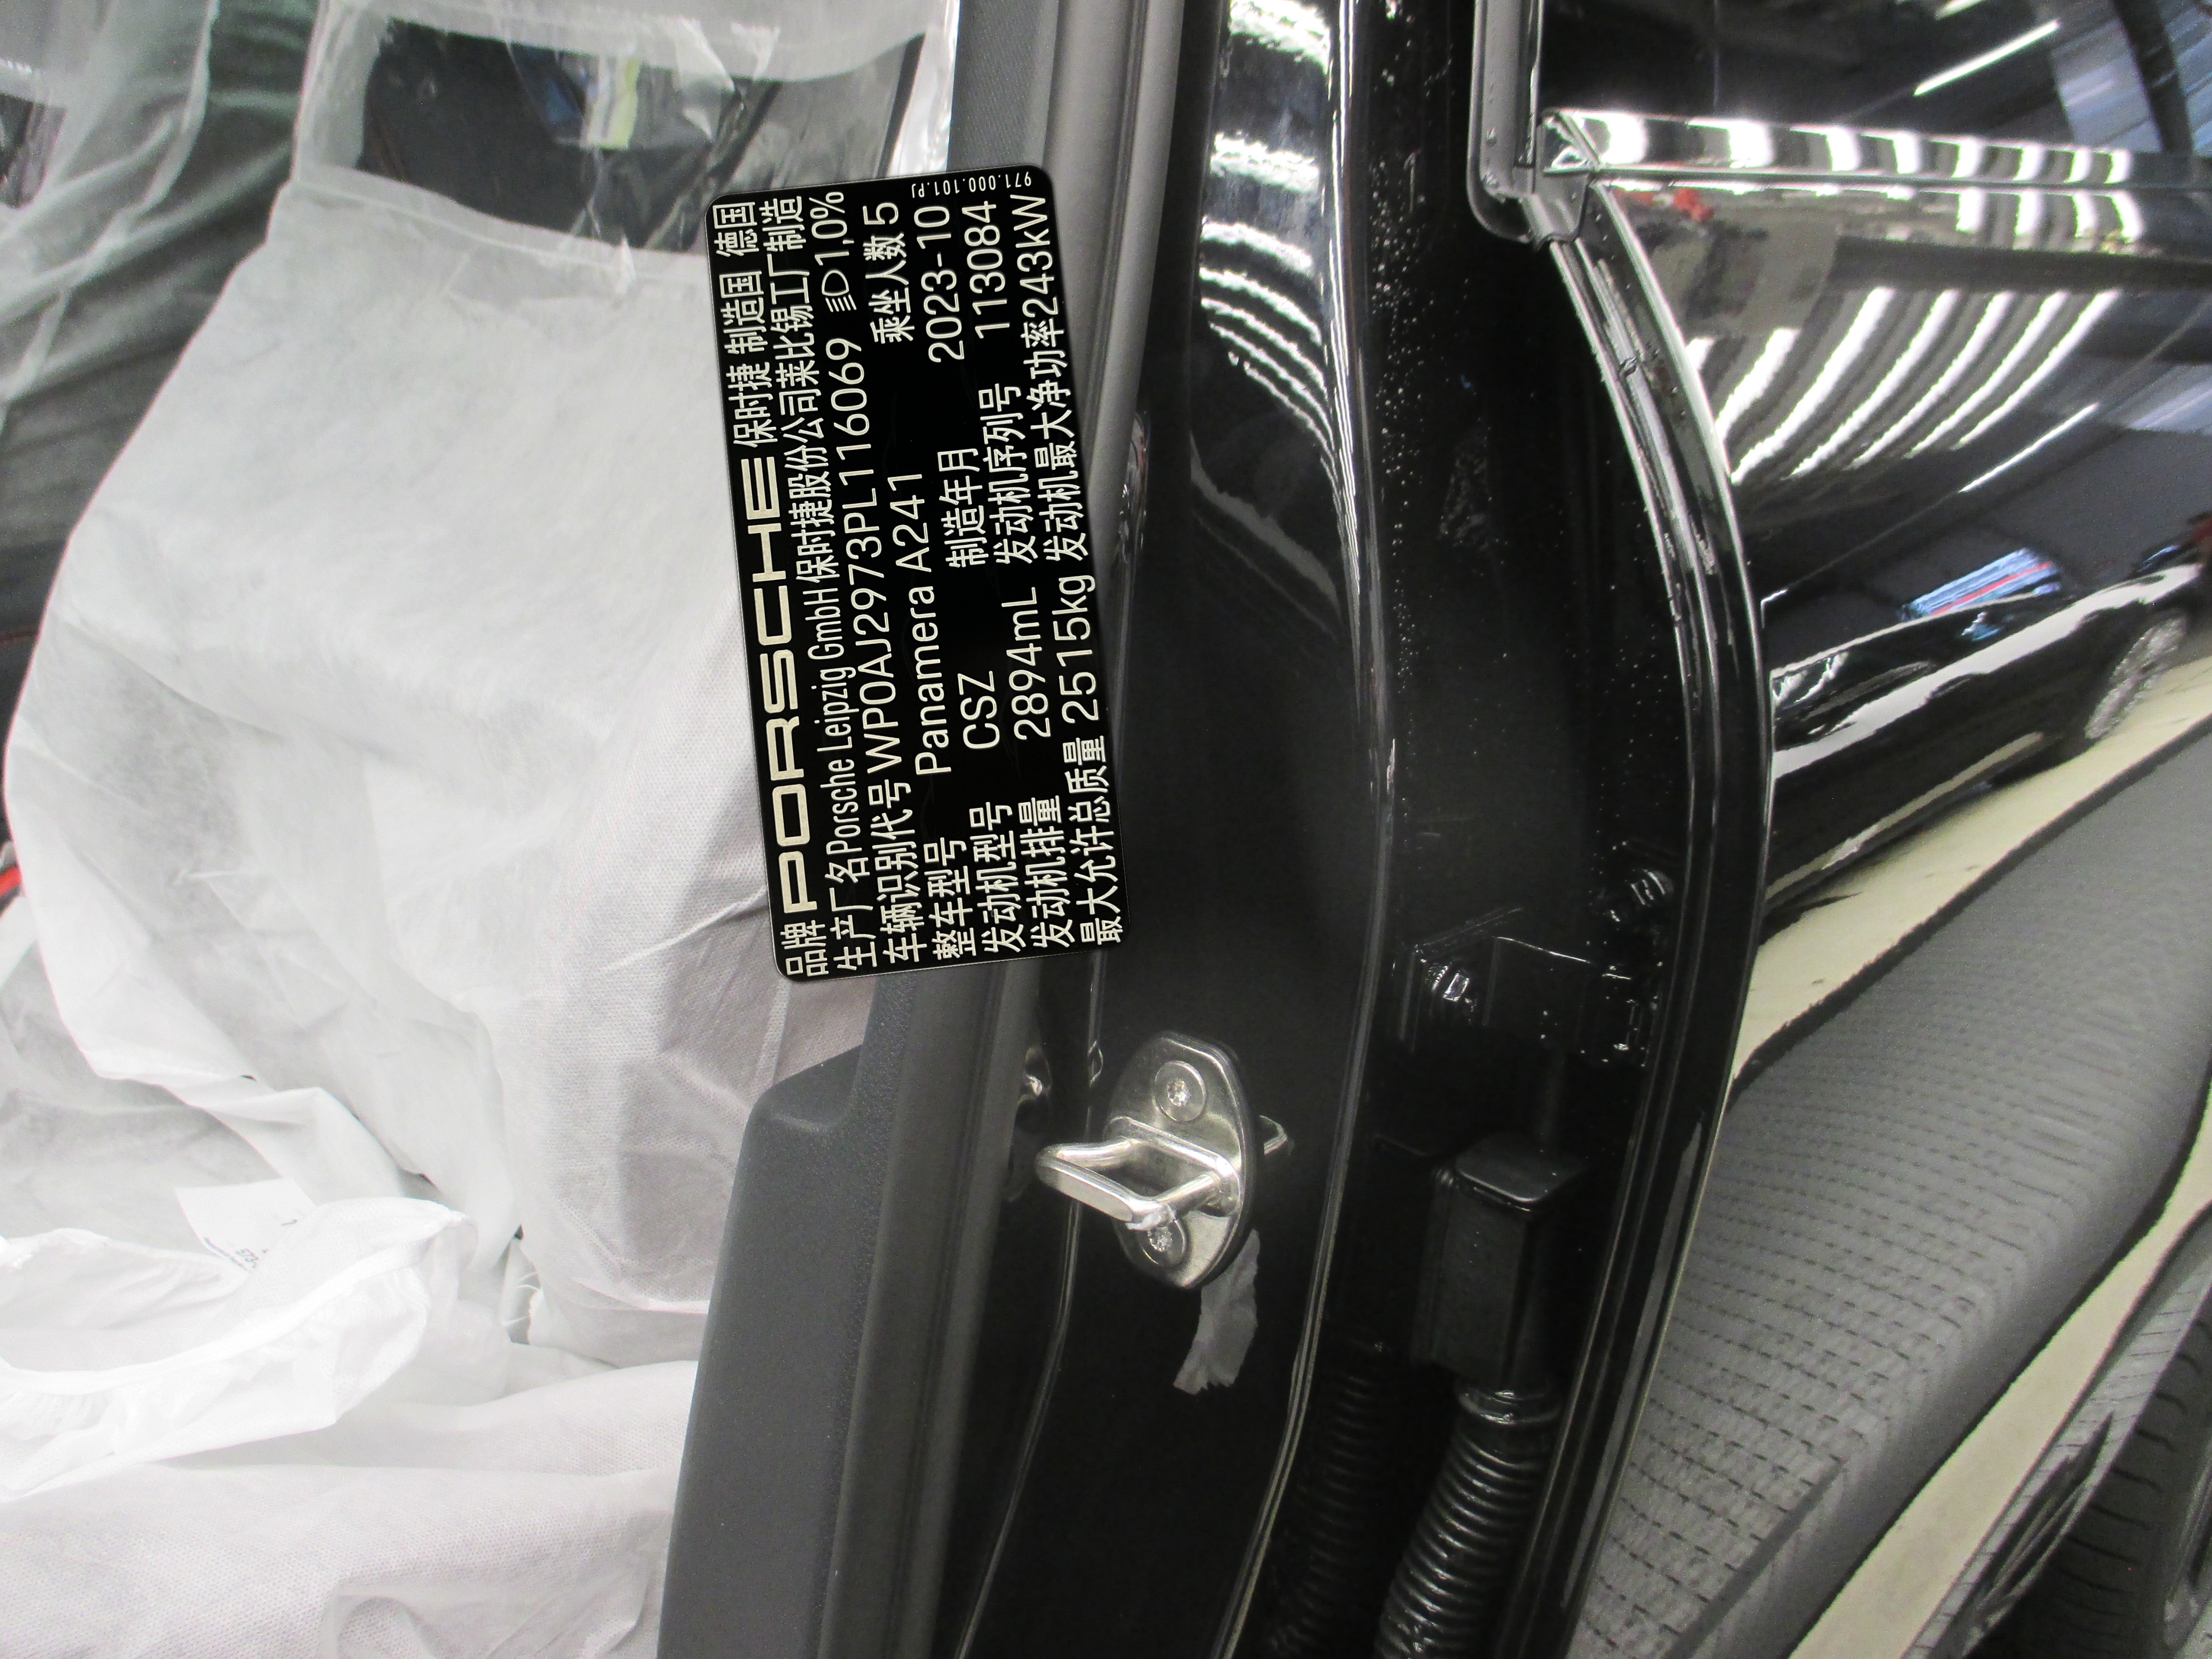Typlabel-China: (705, 164, 1130, 983)
